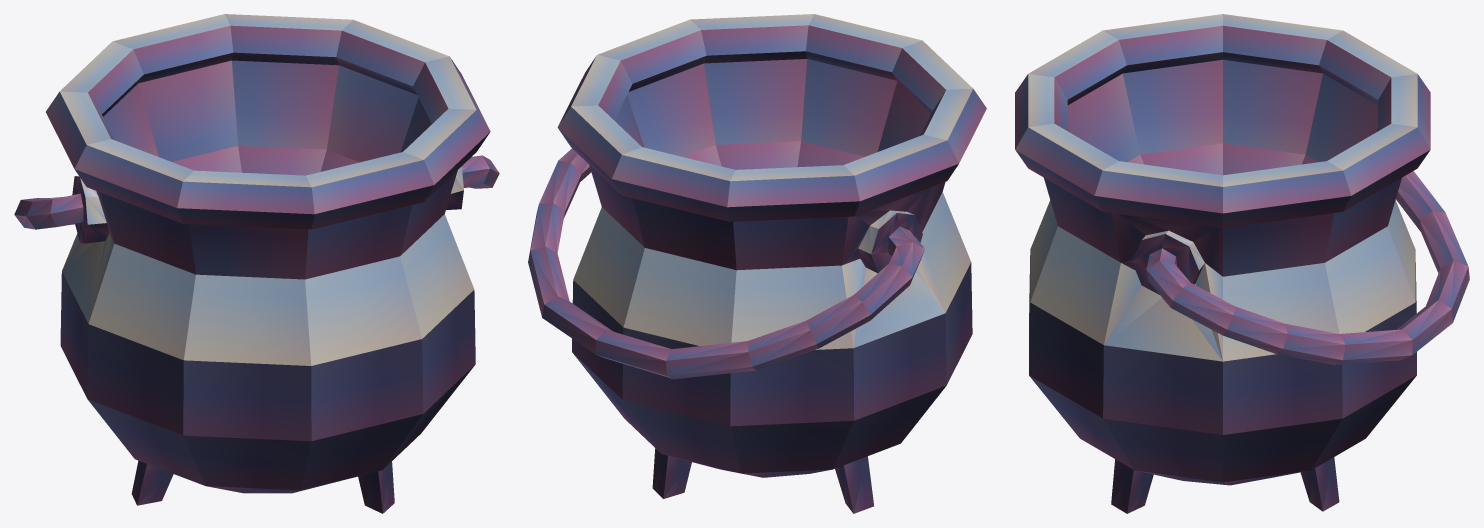
File: cauldron03.fbx
3 views of the same model, side by side, from view 1: azimuth 30°, elevation 25°; view 2: azimuth 150°, elevation 25°; view 3: azimuth 270°, elevation 25° (orthographic). The views are drawn at different scales.
Visible parts, largest first — view 1: cauldron03; view 2: cauldron03; view 3: cauldron03.
Boxes of the visible parts, box(x1,y1,x2,y2) form: cauldron03: box(14, 14, 499, 513); cauldron03: box(528, 14, 986, 513); cauldron03: box(1015, 14, 1469, 513).
Size of the model in its own units: 166 by 147 by 161.
